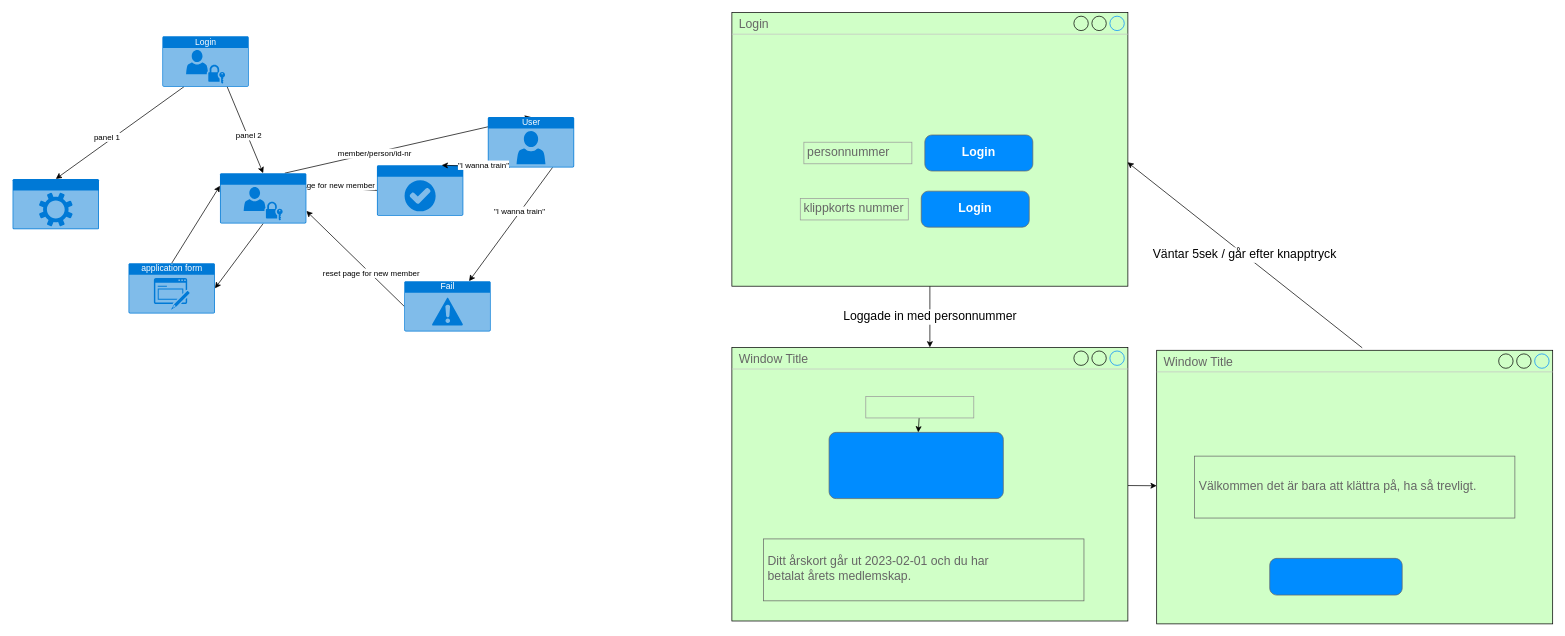
Some shapes in this 1565 by 636 pixel diagram are drawn without their labels. Here are the shapes that lost their labels. From the top down, the centre of each, then its label:
At pixel 55 204: "config members".
At pixel 263 198: "Member login".
At pixel 420 190: "Success".
At pixel 919 407: "Hej Kalle Karlsson".
At pixel 915 465: "Jag ska klättra idag".
At pixel 1335 576: "Tillbaka till startsidan".
